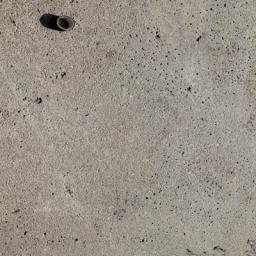FOD: (40, 13, 77, 36)
